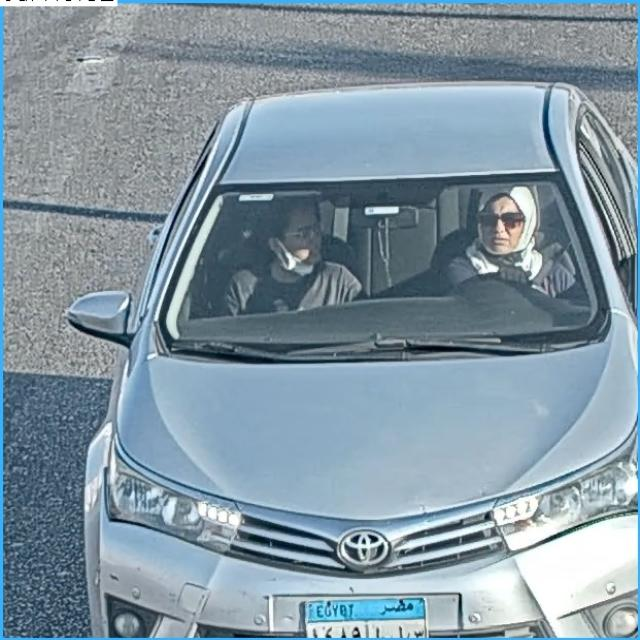windshield: (169, 179, 599, 350)
